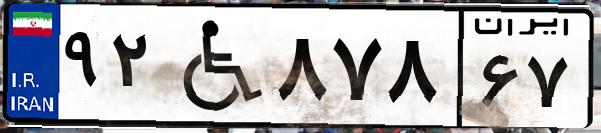2: (110, 28, 158, 98)
6: (475, 38, 525, 113)
7: (330, 28, 385, 110), (525, 38, 570, 115)
8: (270, 28, 330, 110), (385, 28, 445, 110)
9: (57, 26, 110, 100)
ژ (معلولین و جانبازان): (158, 12, 270, 120)
